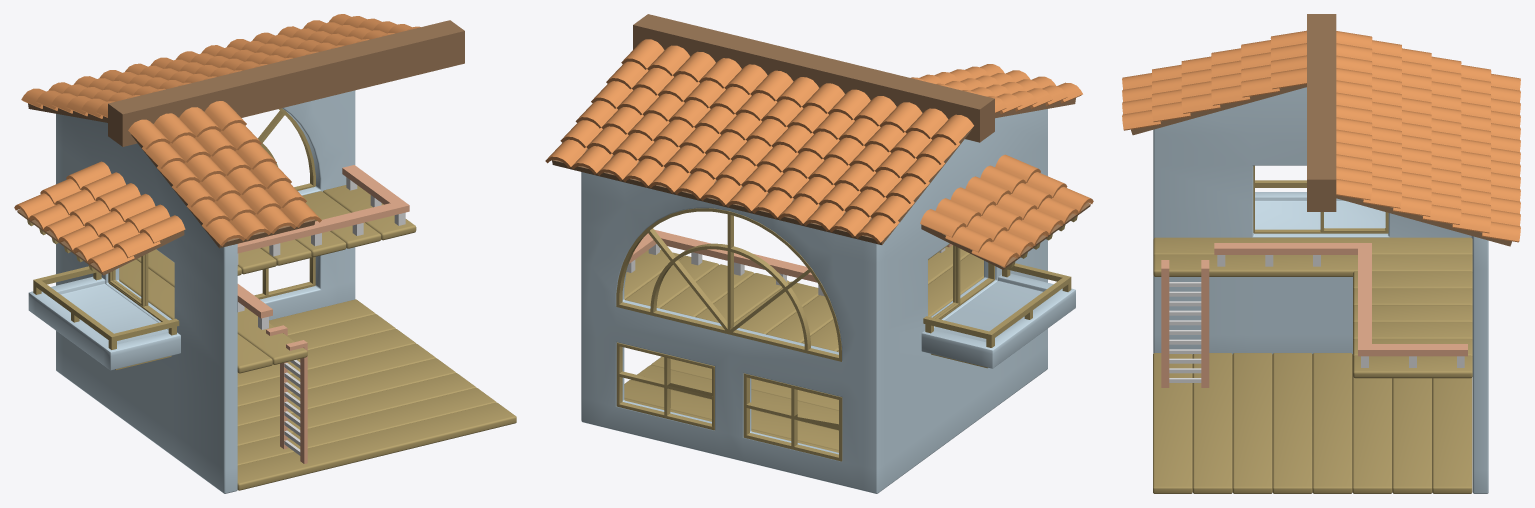
The model's file is house_structure.glb.
3 renders of one model, left to right at view 1: azimuth 30°, elevation 25°; view 2: azimuth 150°, elevation 25°; view 3: azimuth 270°, elevation 25°, orthographic. The views are drawn at different scales.
Visible parts, largest first — view 1: House_Walls, Floor_Bottom, Roof_Central_Beam, Roof_Tiles.012, Roof_Tiles.002, Roof_Tiles.007, Floor_Top, Balcony, Railing, Balcony_Rail, Ladder_Rails, Roof_Tiles_Beam (+6 smaller); view 2: House_Walls, Roof_Tiles.002, Floor_Top, Roof_Central_Beam, Roof_Tiles.007, Floor_Bottom, Balcony, Window_Frame_Big_Top, Roof_Tiles.012, Window_Frame_Small_Bottom_2, Window_Frame_Small_Bottom_1, Roof_Tiles_Beam (+4 smaller); view 3: Floor_Bottom, House_Walls, Roof_Tiles.002, Floor_Top, Roof_Tiles.012, Roof_Central_Beam, Railing, Balcony, Ladder_Rails, Ladder_Steps, Roof_Tiles_Beam, Balcony_Door_Frame (+2 smaller).
Part boxes in pixels (<box>): House_Walls: <box>56,90,355,493</box>; Floor_Bottom: <box>237,299,516,490</box>; Roof_Central_Beam: <box>108,20,464,146</box>; Roof_Tiles.012: <box>128,101,321,246</box>; Roof_Tiles.002: <box>21,14,420,118</box>; Roof_Tiles.007: <box>14,161,185,272</box>; Floor_Top: <box>119,185,416,373</box>; Balcony: <box>28,276,180,370</box>; Railing: <box>237,165,409,318</box>; Balcony_Rail: <box>33,266,179,349</box>; Ladder_Rails: <box>266,325,307,463</box>; Roof_Tiles_Beam: <box>28,103,315,248</box>; House_Walls: <box>581,109,1047,493</box>; Roof_Tiles.002: <box>545,39,973,243</box>; Floor_Top: <box>624,245,983,352</box>; Roof_Central_Beam: <box>633,14,994,142</box>; Roof_Tiles.007: <box>920,154,1093,267</box>; Floor_Bottom: <box>624,356,838,452</box>; Balcony: <box>921,273,1075,368</box>; Window_Frame_Big_Top: <box>616,208,841,361</box>; Roof_Tiles.012: <box>911,64,1082,114</box>; Window_Frame_Small_Bottom_2: <box>743,373,842,461</box>; Window_Frame_Small_Bottom_1: <box>616,342,714,430</box>; Roof_Tiles_Beam: <box>552,50,1075,244</box>; Floor_Bottom: <box>1153,353,1472,493</box>; House_Walls: <box>1153,87,1488,493</box>; Roof_Tiles.002: <box>1336,31,1520,242</box>; Floor_Top: <box>1153,237,1472,378</box>; Roof_Tiles.012: <box>1122,30,1306,130</box>; Roof_Central_Beam: <box>1307,14,1336,211</box>; Railing: <box>1214,243,1467,356</box>; Balcony: <box>1255,192,1385,229</box>; Ladder_Rails: <box>1161,260,1209,387</box>; Ladder_Steps: <box>1169,282,1201,382</box>; Roof_Tiles_Beam: <box>1131,84,1511,246</box>; Balcony_Door_Frame: <box>1253,165,1388,233</box>.
Bounding box in the file's own units: 57.73 × 45.2 × 49.94.
